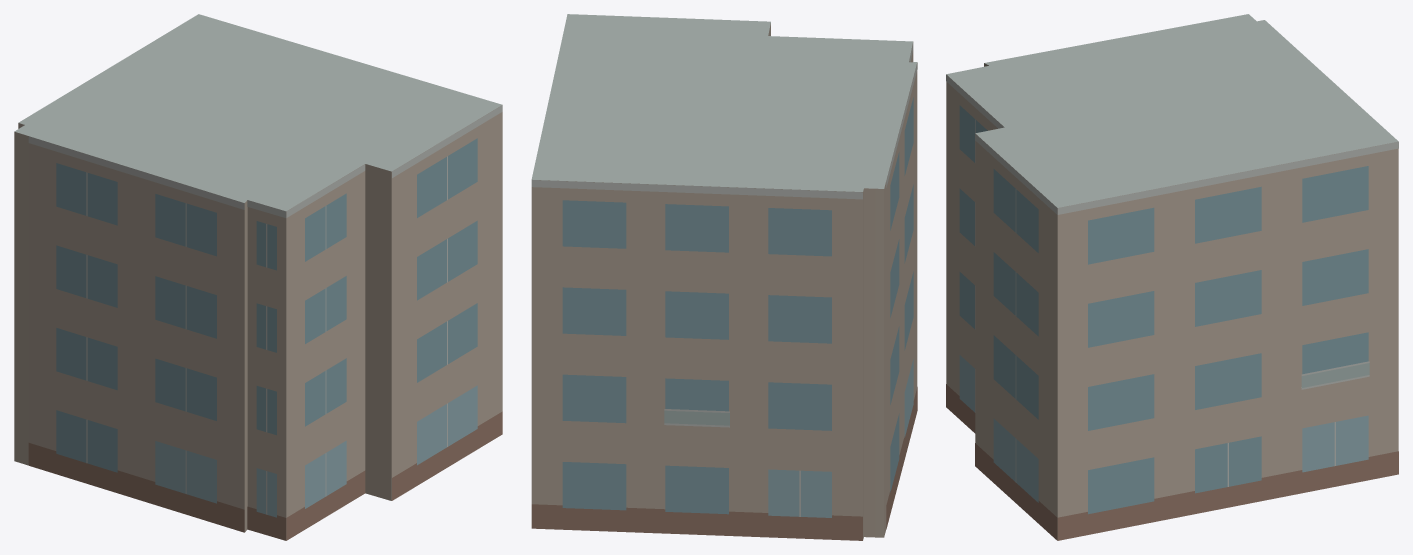
File: survey-upis-32944237.glb
3 renders of one model, left to right at view 1: azimuth 30°, elevation 25°; view 2: azimuth 150°, elevation 25°; view 3: azimuth 270°, elevation 25°, orthographic. The views are drawn at different scales.
Parts seen in each view (by area): view 1: survey-upis-32944237.tmp; view 2: survey-upis-32944237.tmp; view 3: survey-upis-32944237.tmp.
Boxes of the visible parts, x1,y1,x2,y2 form: survey-upis-32944237.tmp: (14,14,502,540); survey-upis-32944237.tmp: (531,14,917,540); survey-upis-32944237.tmp: (946,14,1398,540).
Size of the model in its own units: 14.51 by 11.6 by 14.31.
